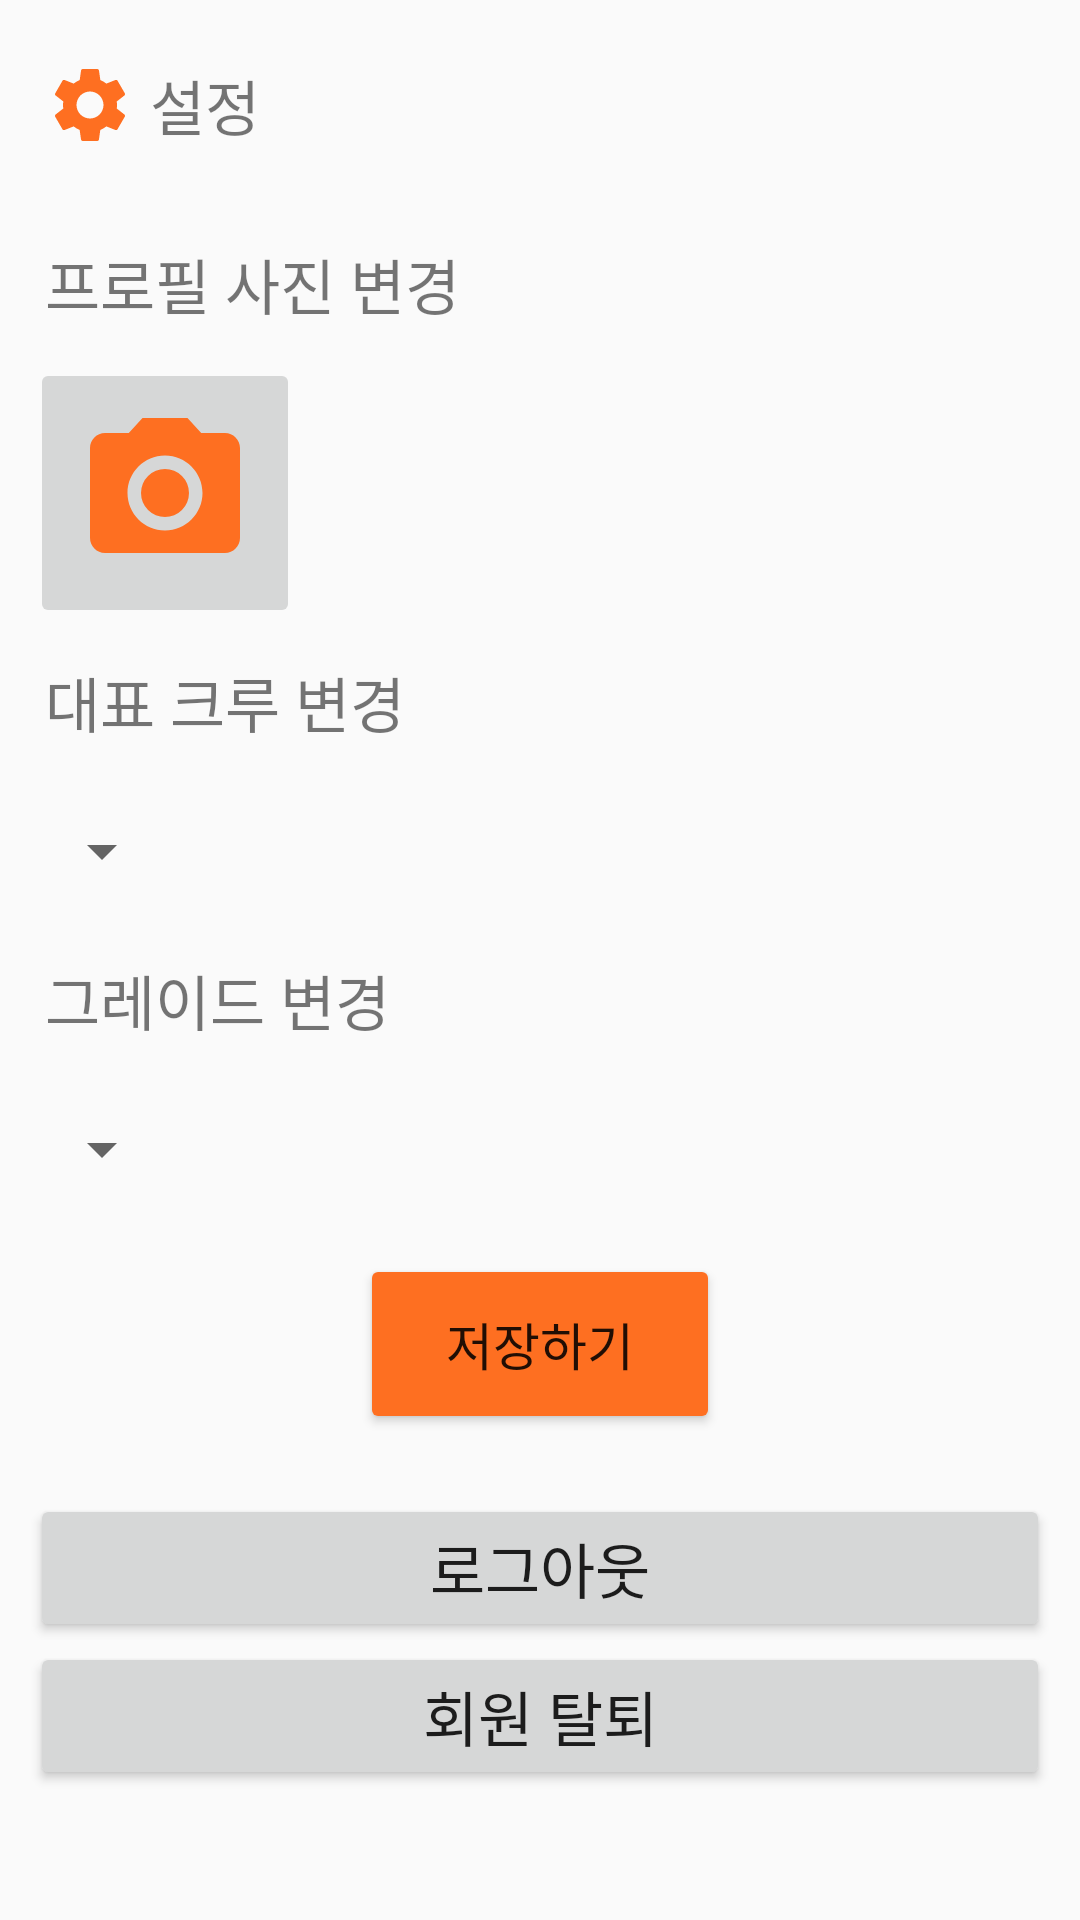

Icons on this 1080*1920 Android screen, each with its box as (x1, y1, x2, y2):
camera: (42, 376, 288, 610)
